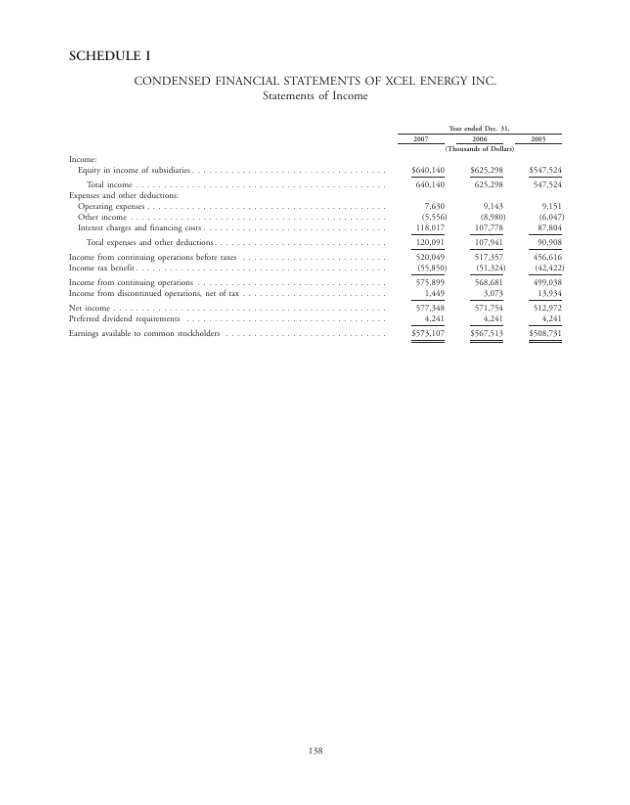table: (390, 123, 566, 350)
